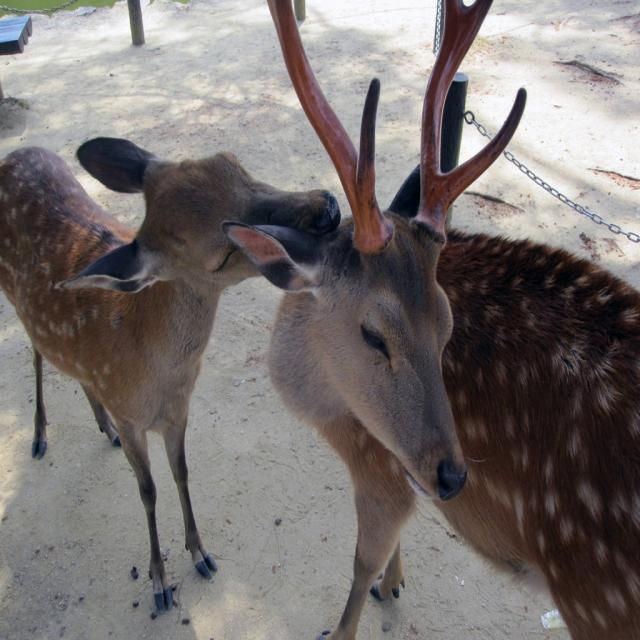Deer: (220, 0, 640, 639), (0, 134, 341, 614)
